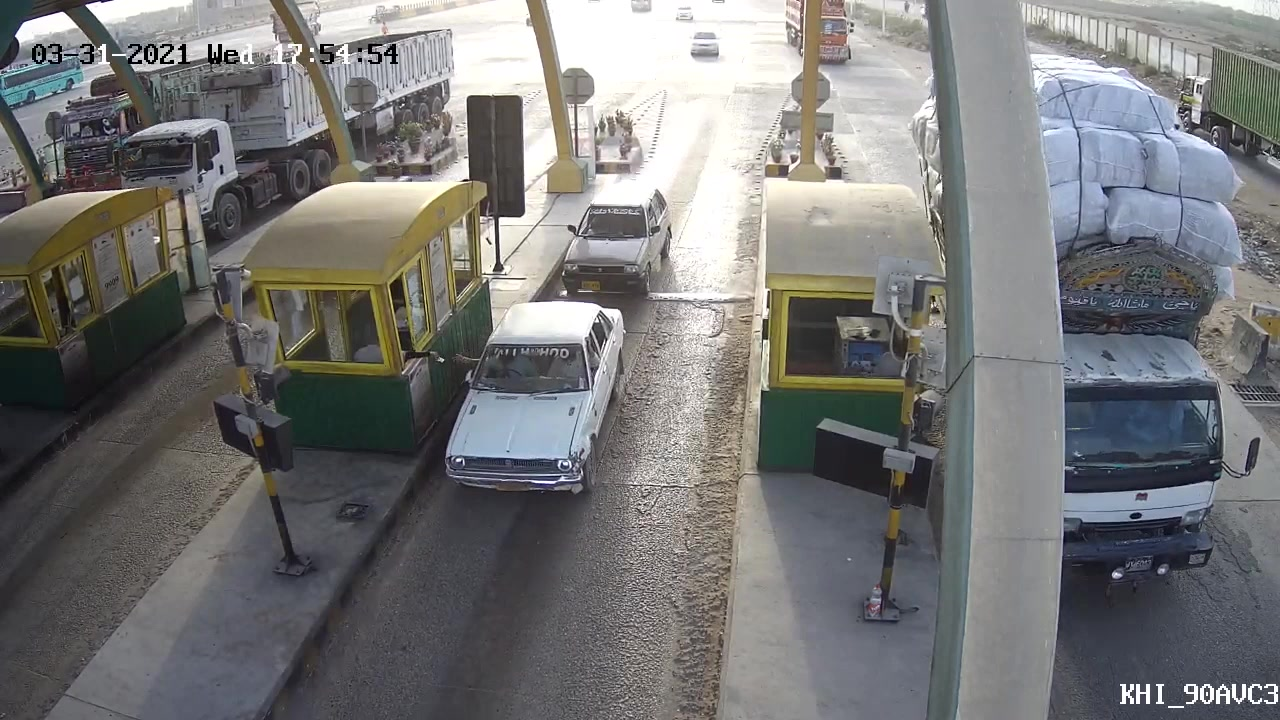F1: (438, 297, 632, 500), (555, 177, 681, 296)
